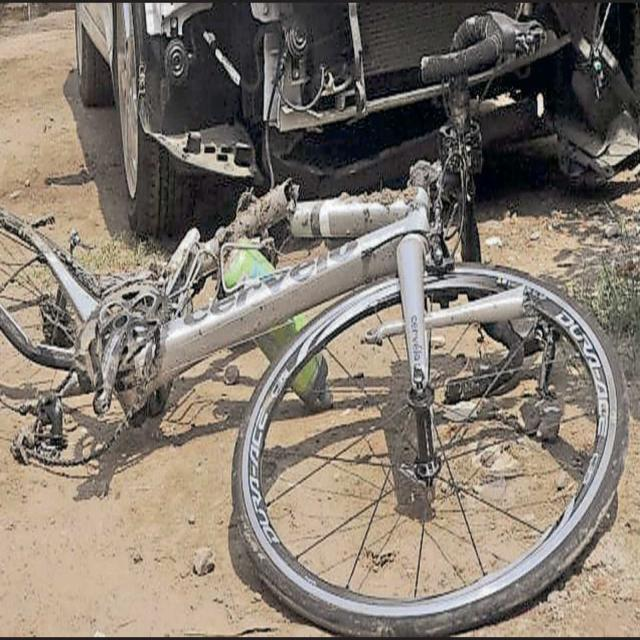accident: (0, 13, 629, 636)
